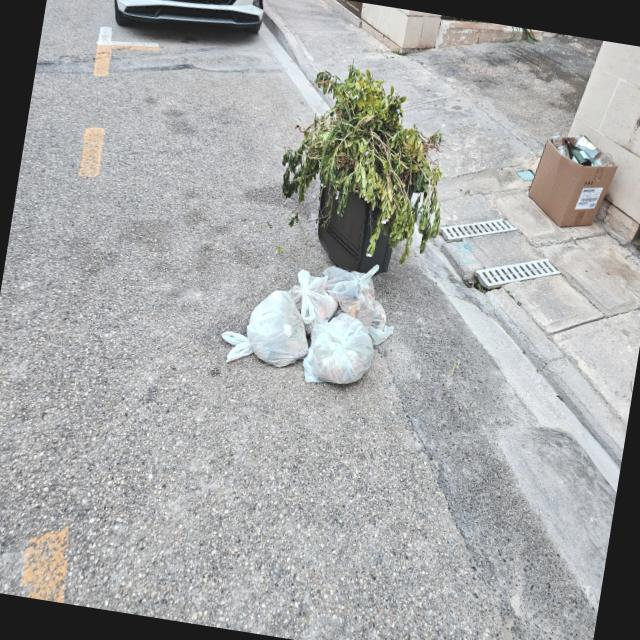white_bag: (212, 280, 318, 379), (314, 258, 406, 346), (300, 306, 380, 396), (280, 264, 342, 336)
